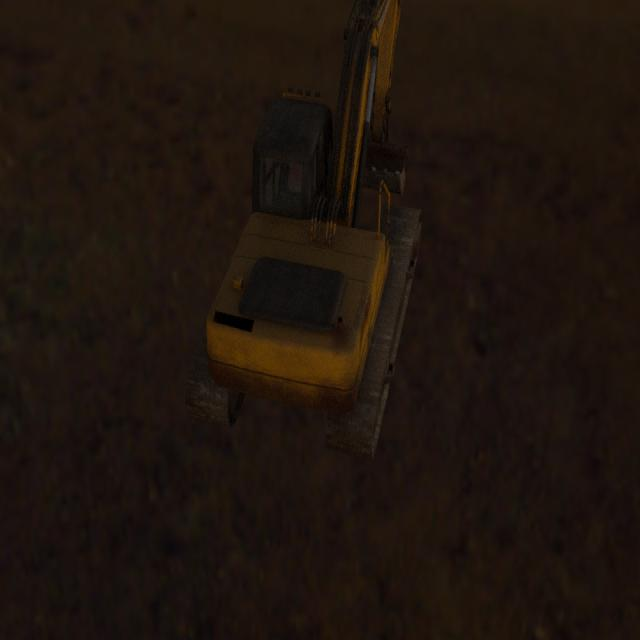excavator: (184, 0, 422, 461)
